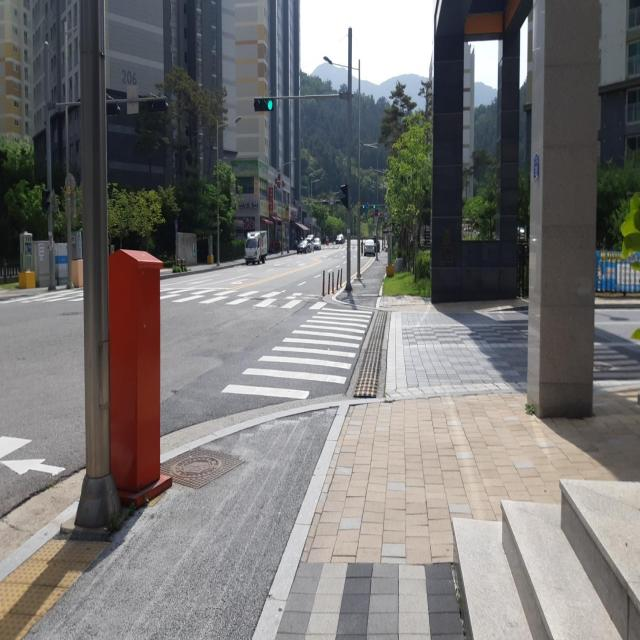횡단보도: (221, 307, 373, 400), (163, 283, 311, 309)
